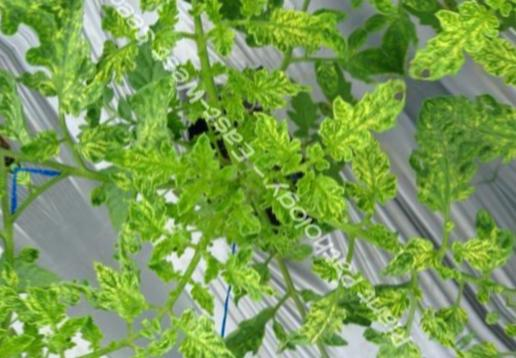Tomato leaf yellow virus: (101, 100, 231, 231), (366, 98, 493, 228), (7, 0, 147, 112), (307, 64, 422, 173), (246, 0, 369, 96), (207, 40, 307, 139), (72, 220, 164, 322), (285, 271, 372, 357), (154, 294, 262, 358), (107, 77, 191, 159), (335, 135, 416, 218), (0, 63, 61, 160), (406, 287, 483, 358), (288, 160, 359, 234), (239, 103, 309, 176), (448, 206, 516, 280), (374, 227, 445, 296), (215, 246, 281, 314), (343, 320, 436, 358), (130, 0, 192, 25)
